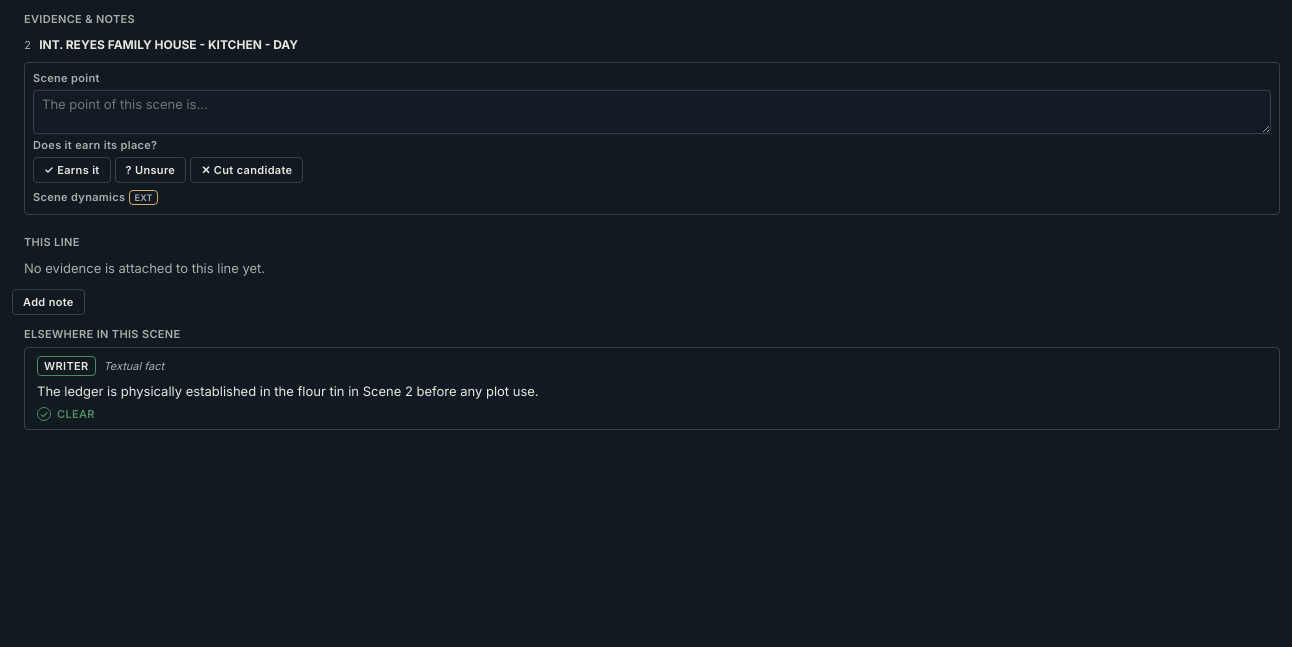
Test case: note authoring in the inspector › shows a plain-language definition for the selected claim type
Click the button "Add note": (48, 302) x1=12 y1=290 x2=85 y2=316
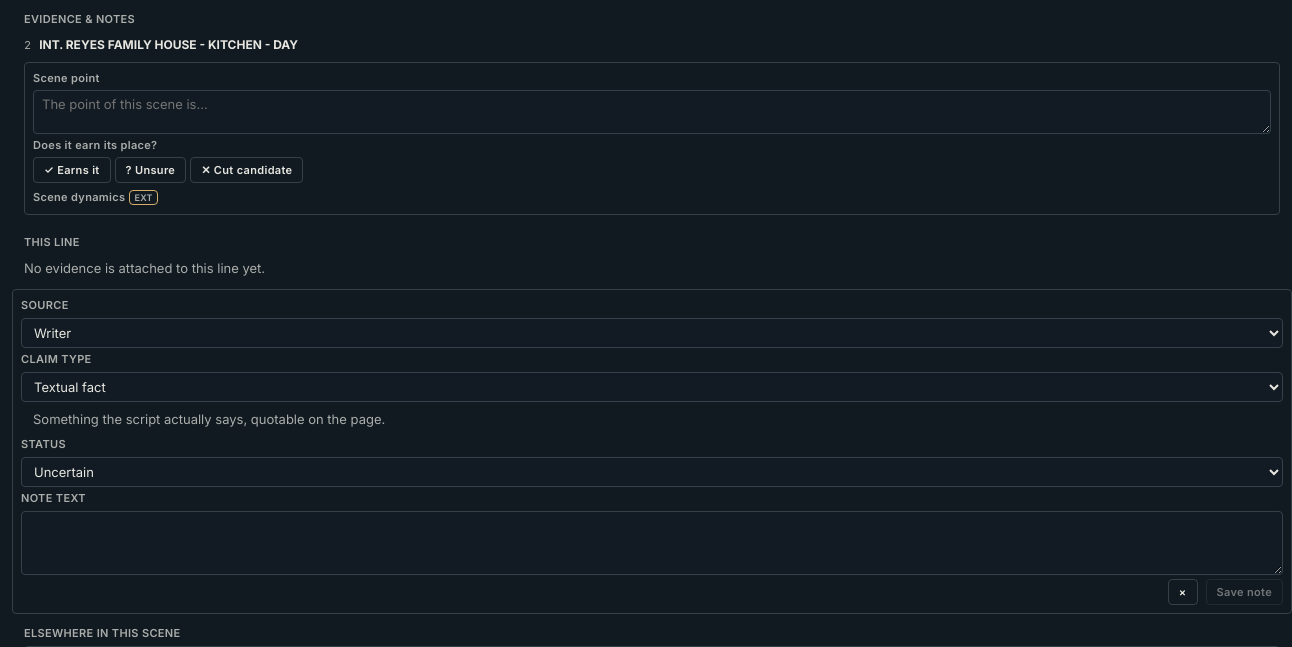
Expected: the text "Something the script actually says, quotable on the page." is shown, x1=33 y1=411 x2=385 y2=427
Select "Unresolved hypothesis" in the dropdown labelled "Claim type": (652, 387) x1=21 y1=372 x2=1283 y2=402
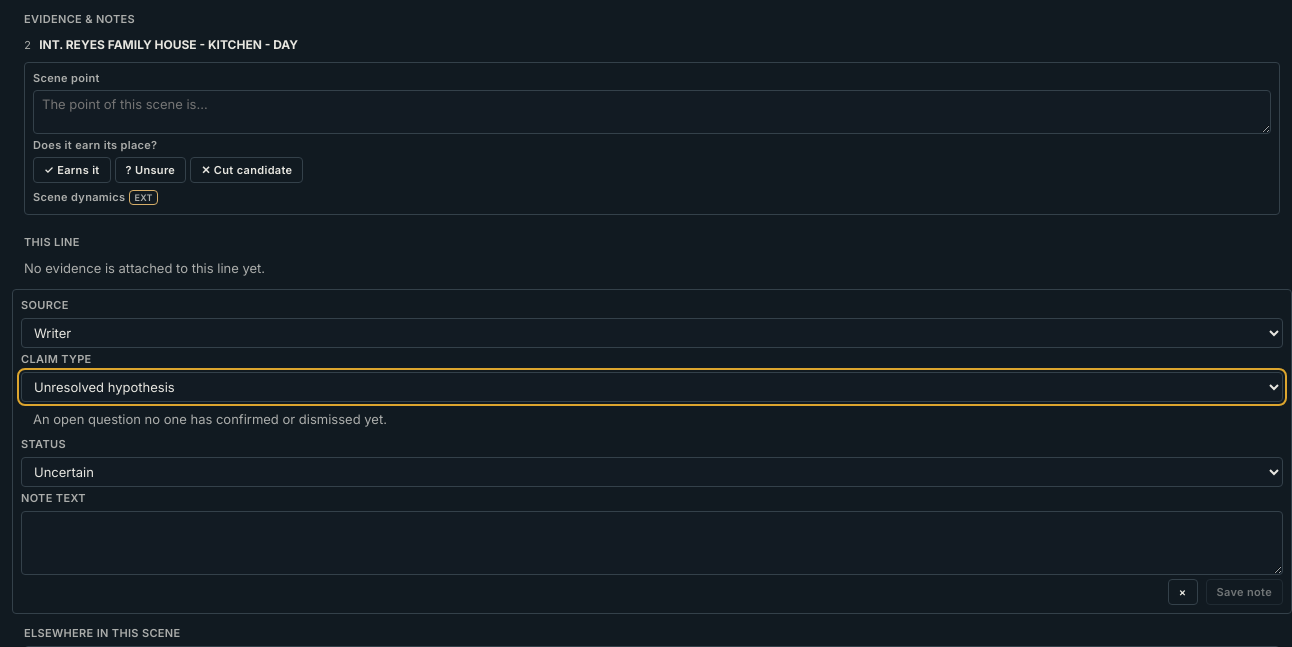
Expected: the text "An open question no one has confirmed or dismissed yet." is shown, x1=33 y1=411 x2=387 y2=427
